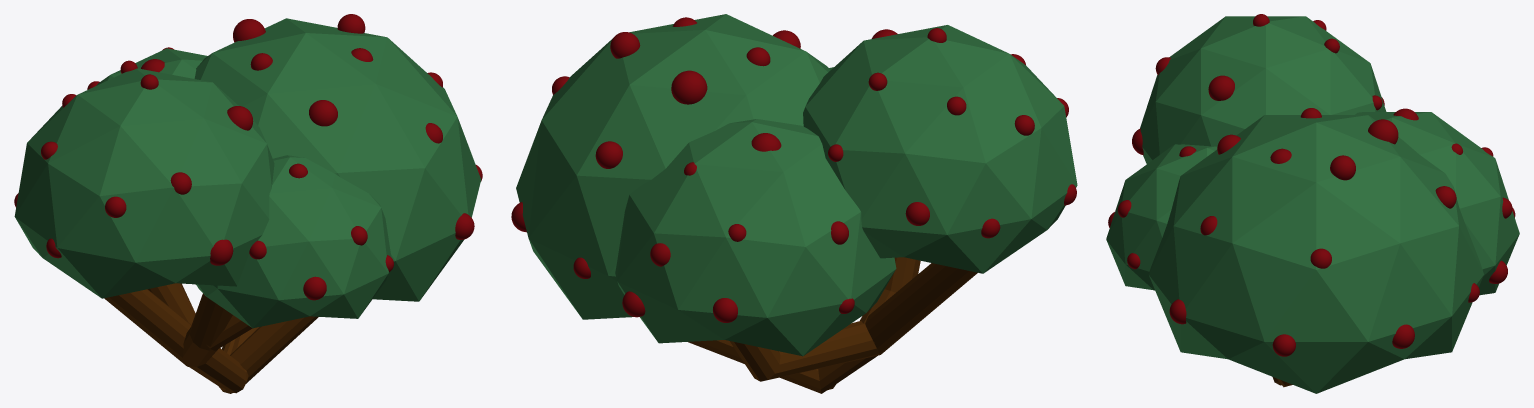
File: berry_bush_variant3.fbx
The picture shows the model from 3 angles, left to right: view 1: azimuth 30°, elevation 25°; view 2: azimuth 150°, elevation 25°; view 3: azimuth 270°, elevation 25°; orthographic projection. The views are drawn at different scales.
Visible parts, largest first — view 1: Icosphere.015, Icosphere.014, Icosphere.016, Vert.003, Icosphere.017, Sphere.011, Sphere.013, Sphere.008, Sphere.007, Sphere.012, Sphere.024, Sphere.017; view 2: Icosphere.015, Icosphere.017, Icosphere.014, Vert.003, Sphere.013, Sphere.012, Sphere.015, Sphere.032; view 3: Icosphere.014, Icosphere.015, Icosphere.017, Icosphere.016, Sphere.007, Sphere.013, Sphere.012, Sphere.016, Sphere.036.
Part boxes in pixels (left/top/right/bottom): Icosphere.015: left=14, top=68, right=274, bottom=298; Icosphere.014: left=194, top=18, right=481, bottom=301; Icosphere.016: left=196, top=155, right=391, bottom=328; Vert.003: left=104, top=283, right=318, bottom=393; Icosphere.017: left=96, top=48, right=207, bottom=85; Sphere.011: left=309, top=100, right=337, bottom=126; Sphere.013: left=233, top=19, right=265, bottom=42; Sphere.008: left=210, top=239, right=233, bottom=265; Sphere.007: left=227, top=106, right=253, bottom=130; Sphere.012: left=337, top=14, right=365, bottom=33; Sphere.024: left=303, top=276, right=326, bottom=300; Sphere.017: left=455, top=213, right=474, bottom=239; Icosphere.015: left=803, top=25, right=1077, bottom=273; Icosphere.017: left=615, top=119, right=896, bottom=356; Icosphere.014: left=516, top=14, right=830, bottom=319; Vert.003: left=688, top=257, right=977, bottom=393; Sphere.013: left=671, top=70, right=707, bottom=104; Sphere.012: left=610, top=32, right=640, bottom=58; Sphere.015: left=595, top=141, right=622, bottom=168; Sphere.032: left=713, top=298, right=737, bottom=322; Icosphere.014: left=1148, top=115, right=1483, bottom=393; Icosphere.015: left=1140, top=16, right=1386, bottom=163; Icosphere.017: left=1355, top=112, right=1519, bottom=295; Icosphere.016: left=1106, top=144, right=1217, bottom=290; Sphere.007: left=1208, top=75, right=1234, bottom=100; Sphere.013: left=1368, top=119, right=1398, bottom=144; Sphere.012: left=1330, top=155, right=1355, bottom=180; Sphere.016: left=1392, top=324, right=1414, bottom=348; Sphere.036: left=1272, top=334, right=1295, bottom=356.
Bounding box in the file's own units: 58.17 × 42.44 × 48.57.
